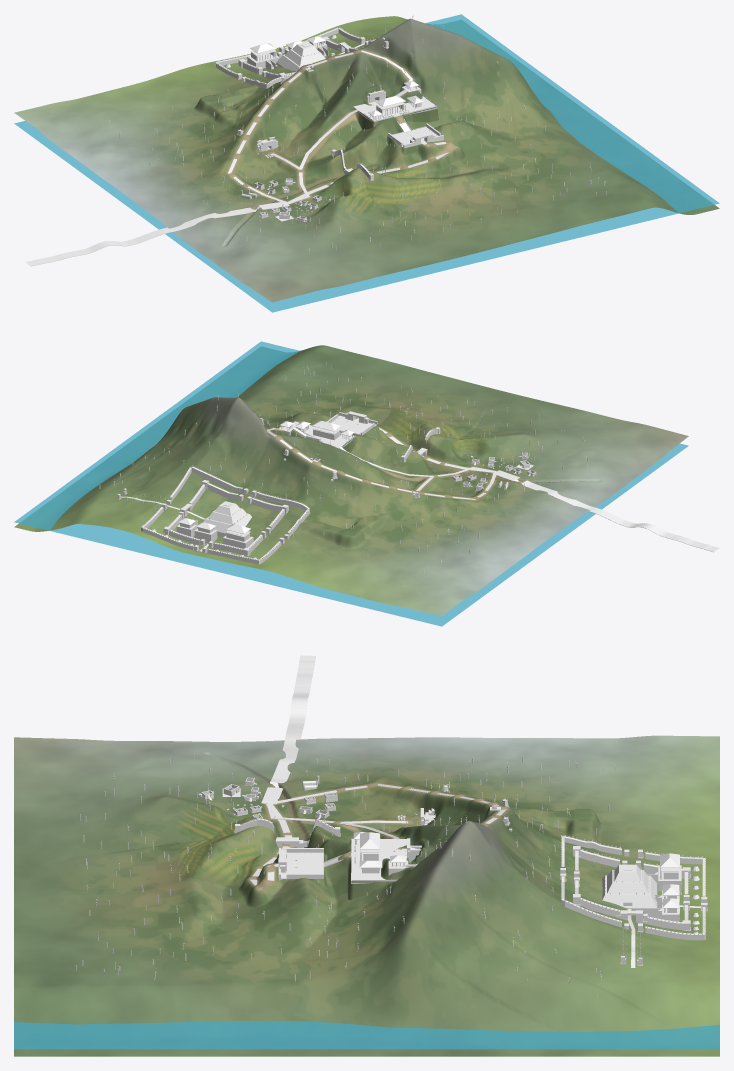
Rendered from world_qin.core.glb.
The picture shows the model from 3 angles, top to bottom: view 1: azimuth 30°, elevation 25°; view 2: azimuth 150°, elevation 25°; view 3: azimuth 270°, elevation 25°; orthographic projection. The views are drawn at different scales.
Visible parts, largest first — view 1: Terrain, Water, COL_Props; view 2: Terrain, Water, COL_Props; view 3: Terrain, COL_Props, Water.
Part boxes in pixels (left/top/right/bottom): Terrain: left=14, top=16, right=719, bottom=302; Water: left=14, top=14, right=719, bottom=312; COL_Props: left=26, top=15, right=606, bottom=266; Terrain: left=14, top=345, right=688, bottom=616; Water: left=14, top=341, right=688, bottom=626; COL_Props: left=99, top=362, right=719, bottom=573; Terrain: left=14, top=735, right=719, bottom=1056; COL_Props: left=75, top=655, right=707, bottom=1001; Water: left=14, top=813, right=719, bottom=1049.
Size of the model in its own units: 941 by 165 by 720.
